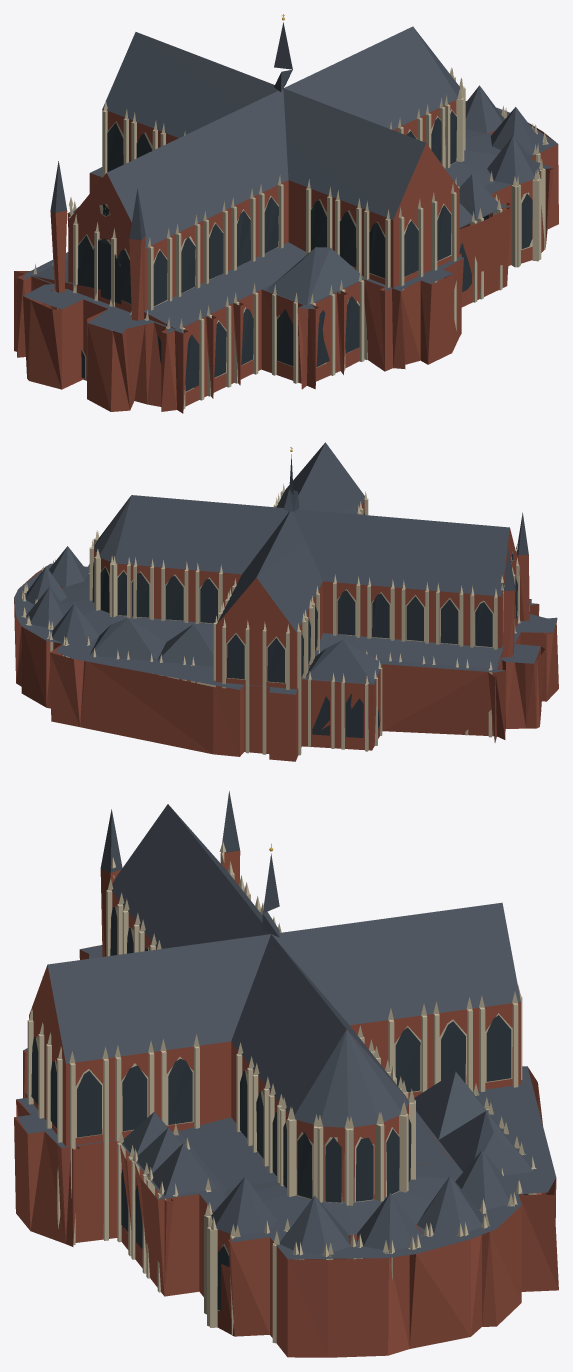
Rendered from nieuwe-kerk.lod1.glb.
The picture shows the model from 3 angles, top to bottom: view 1: azimuth 30°, elevation 25°; view 2: azimuth 150°, elevation 25°; view 3: azimuth 270°, elevation 25°; orthographic projection. The views are drawn at different scales.
Parts seen in each view (by area): view 1: nieuwe-kerk; view 2: nieuwe-kerk; view 3: nieuwe-kerk.
Part boxes in pixels (x1=…): nieuwe-kerk: x1=14, y1=14, x2=558, y2=413; nieuwe-kerk: x1=14, y1=442, x2=558, y2=761; nieuwe-kerk: x1=14, y1=791, x2=558, y2=1357.
Size of the model in its own units: 94.85 by 46 by 65.74.
